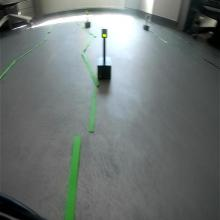green: (101, 27, 109, 39)
